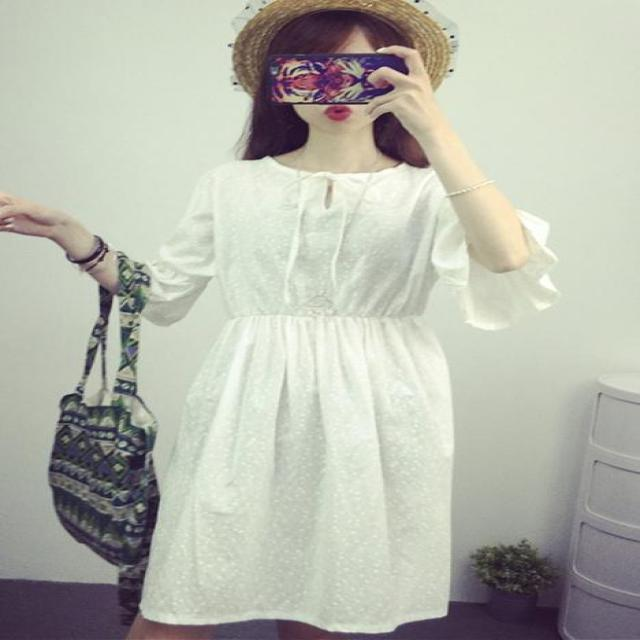short-sleeve-dress: (102, 132, 592, 628)
